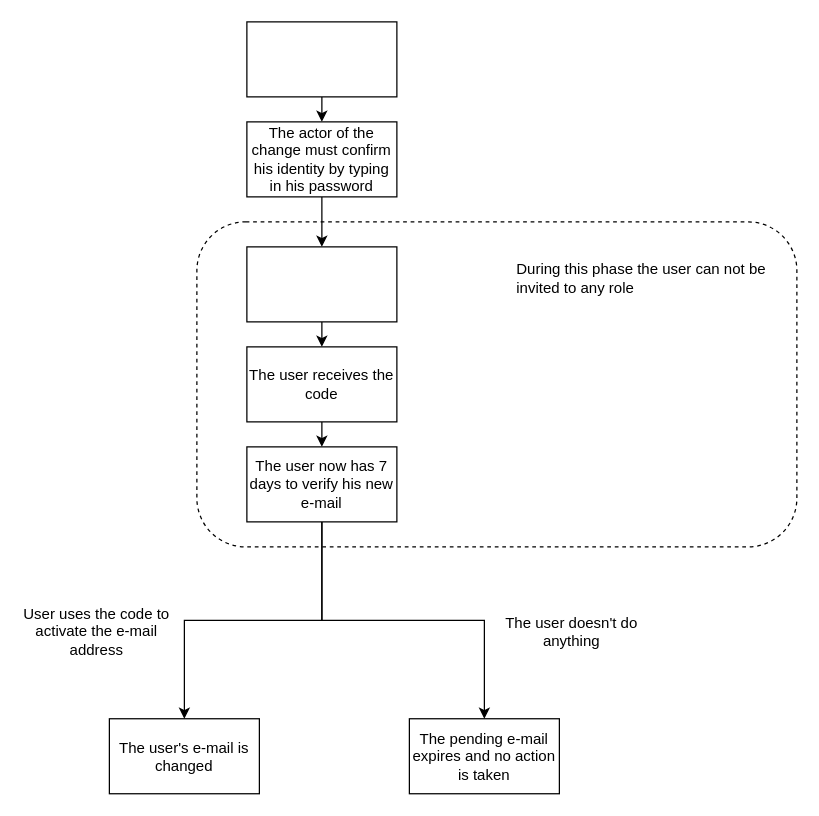
Some shapes in this 819 by 816 pixel diagram are drawn without their labels. Here are the shapes that lost their labels. From the top down, the centre of each, then its label:
(x=321, y=59): User email is changed.
(x=321, y=284): E-mail verification email is sent to the user with the verification code
